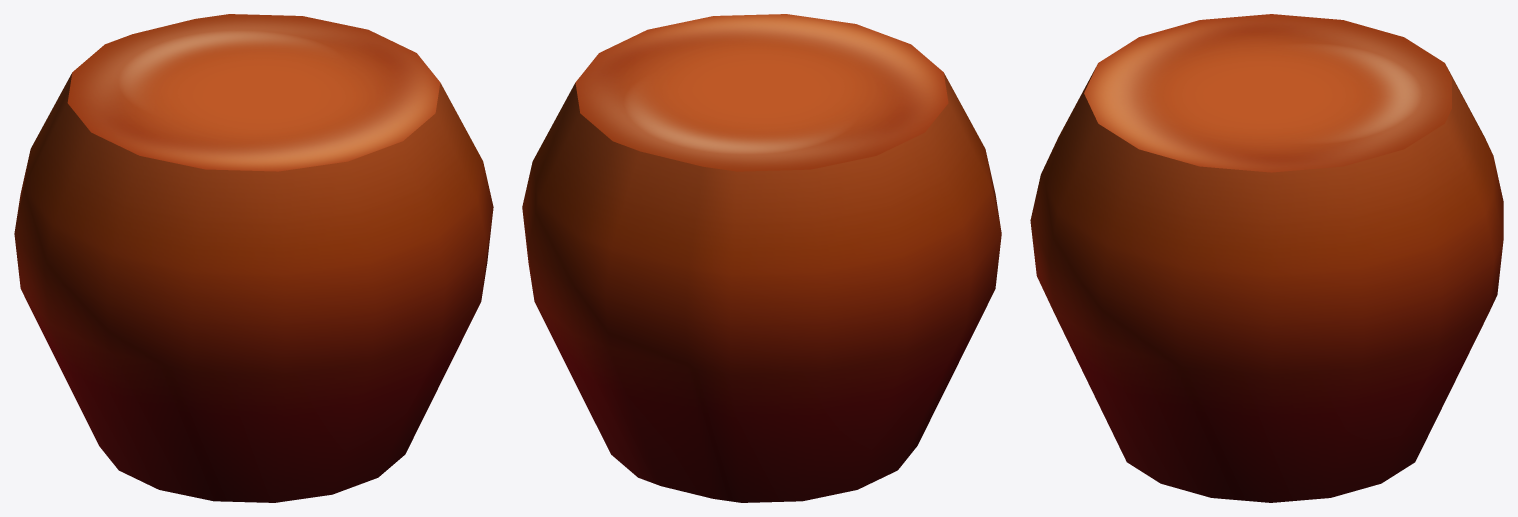
Rendered from Syrup_Liquid_01.fbx.
3 views of the same model, side by side, from view 1: azimuth 30°, elevation 25°; view 2: azimuth 150°, elevation 25°; view 3: azimuth 270°, elevation 25° (orthographic).
Parts seen in each view (by area): view 1: Syrup_Liquid_01; view 2: Syrup_Liquid_01; view 3: Syrup_Liquid_01.
Boxes of the visible parts, <box> form: Syrup_Liquid_01: <box>14,14,493,502</box>; Syrup_Liquid_01: <box>522,14,1001,502</box>; Syrup_Liquid_01: <box>1030,14,1503,502</box>.
Bounding box in the file's own units: 43.87 × 34.5 × 43.04.
